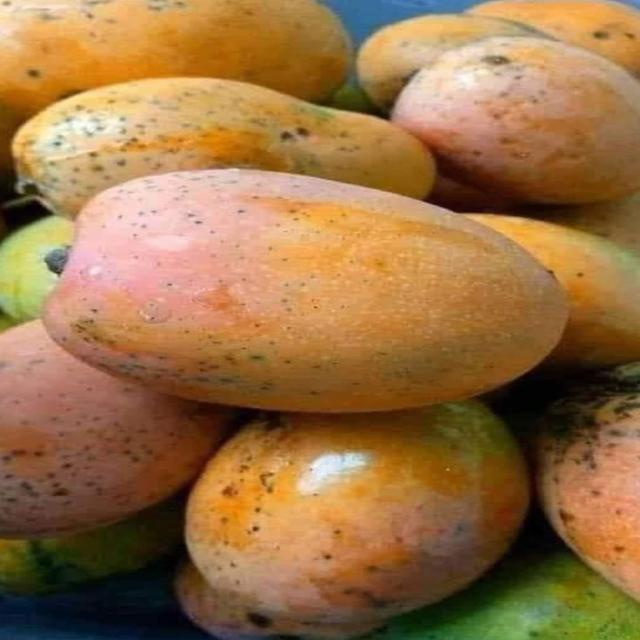mango: (46, 170, 566, 411), (187, 402, 528, 634), (14, 78, 434, 217), (0, 321, 226, 538), (393, 37, 639, 203), (471, 214, 639, 371), (369, 549, 639, 639), (538, 363, 639, 600), (357, 14, 545, 111), (0, 501, 183, 595), (469, 0, 639, 75), (0, 216, 73, 321)
